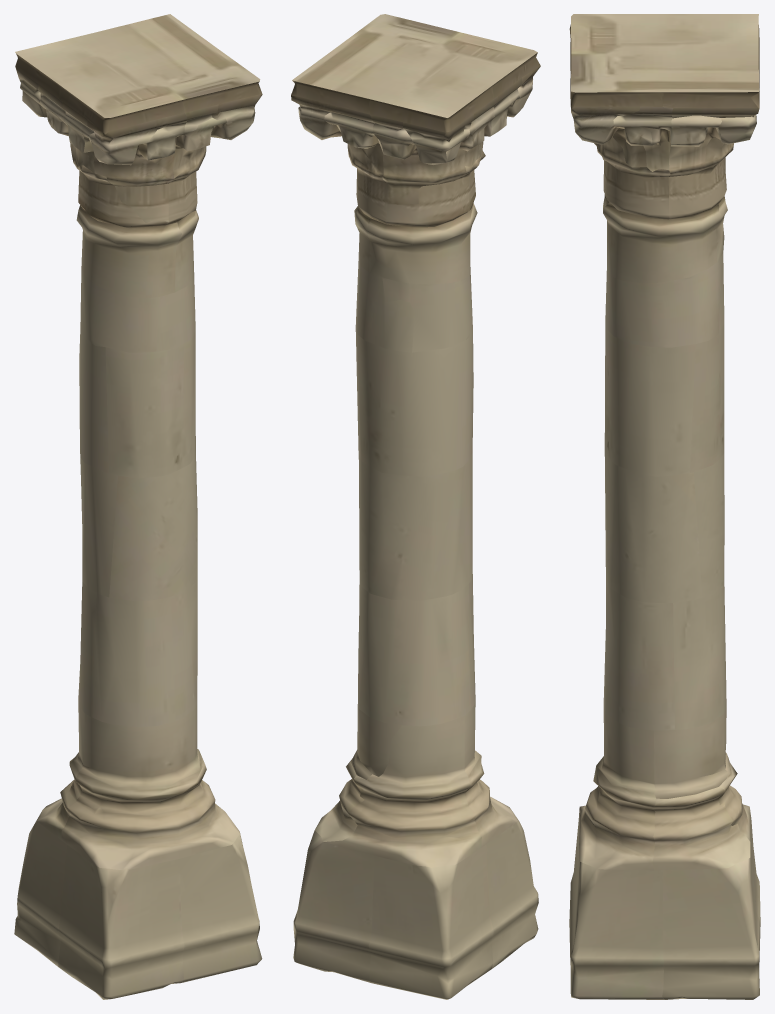
Rendered from ZhuZi_4_354746.glb.
3 renders of one model, left to right at view 1: azimuth 30°, elevation 25°; view 2: azimuth 150°, elevation 25°; view 3: azimuth 270°, elevation 25°, orthographic. The views are drawn at different scales.
Parts seen in each view (by area): view 1: ZhuZi_4; view 2: ZhuZi_4; view 3: ZhuZi_4.
Part boxes in pixels (box(x1,y1,x2,y2)): ZhuZi_4: box(14, 14, 262, 999); ZhuZi_4: box(291, 14, 540, 999); ZhuZi_4: box(569, 14, 760, 999).
Bounding box in the file's own units: 0.3358 × 1.78 × 0.3391.
1 material, 1 textured.
